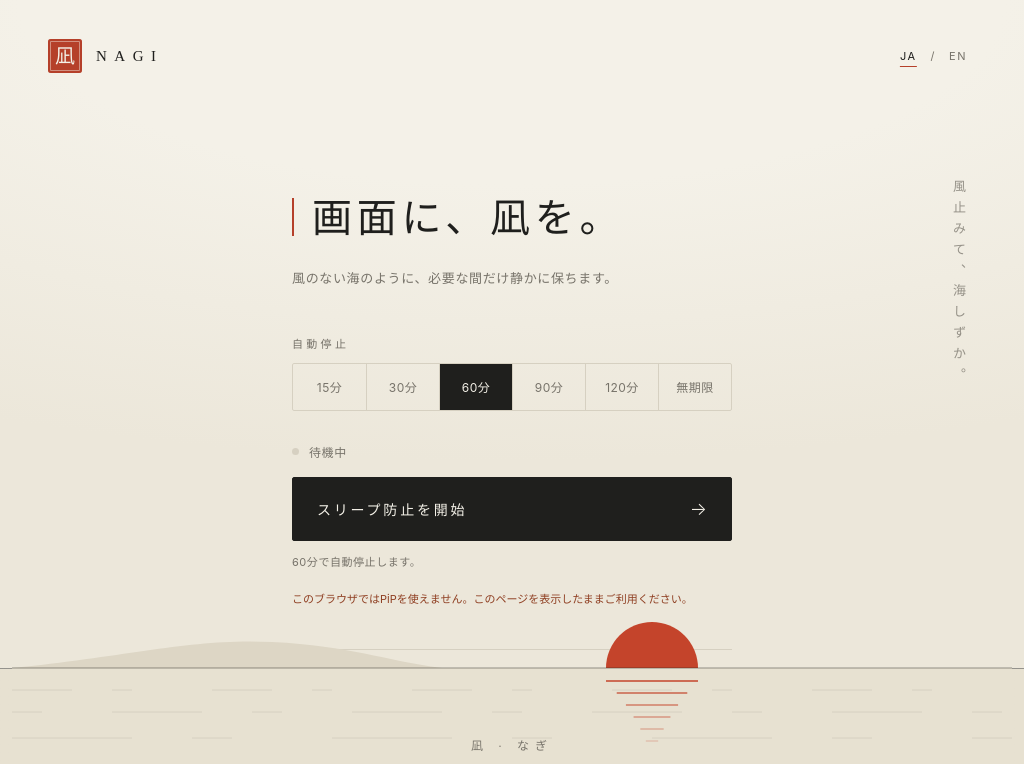
One-button interaction (jsdom, not OS verification) › offers only language, duration and start/stop, with a PiP explanation
The image size is (1024, 764).
expect the radio button labelled "60分" is checked: met, box [439, 364, 512, 410]
Click the button "EN" at (958, 56), box [940, 39, 976, 73]
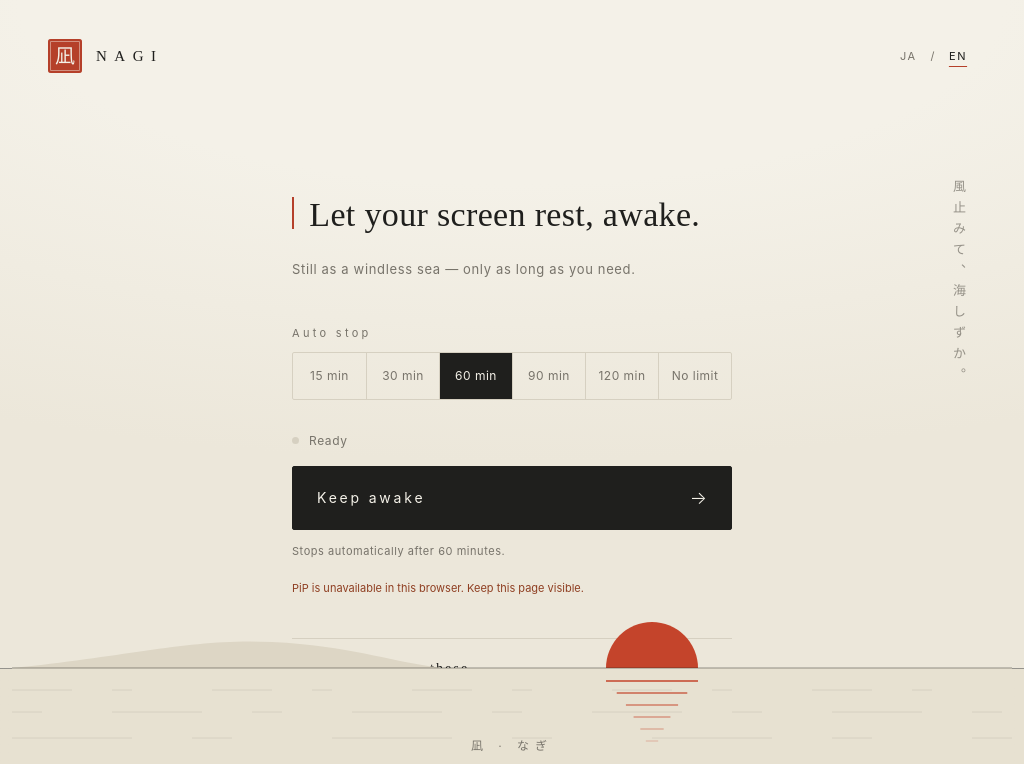
expect the heading "Let your screen rest, awake." is shown: met, box [292, 189, 732, 240]
